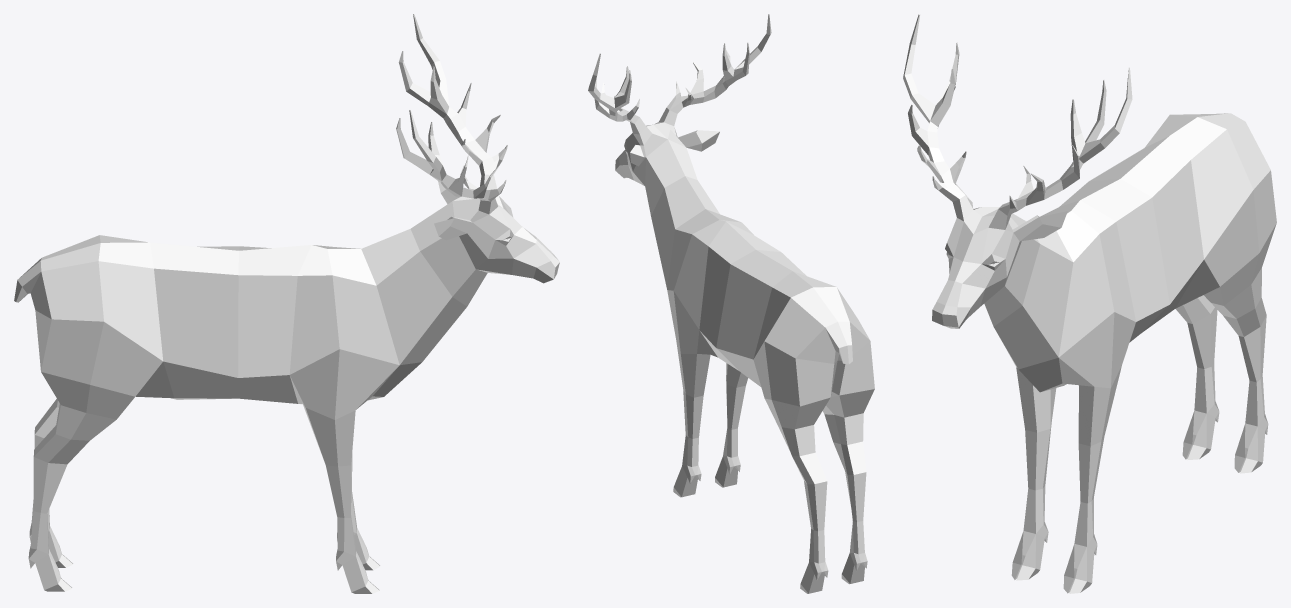
The model's file is 220223_deer_03.gltf.
3 views of the same model, side by side, from view 1: azimuth 30°, elevation 25°; view 2: azimuth 150°, elevation 25°; view 3: azimuth 270°, elevation 25° (orthographic). The views are drawn at different scales.
Parts seen in each view (by area): view 1: ORIGAMI_Cerf003; view 2: ORIGAMI_Cerf003; view 3: ORIGAMI_Cerf003.
Boxes of the visible parts, x1=… form: ORIGAMI_Cerf003: x1=14, y1=14, x2=559, y2=593; ORIGAMI_Cerf003: x1=588, y1=14, x2=874, y2=593; ORIGAMI_Cerf003: x1=903, y1=14, x2=1276, y2=593.
Bounding box in the file's own units: 3.73 × 4.48 × 2.72.
Materials: 1 (1 with a texture image).
